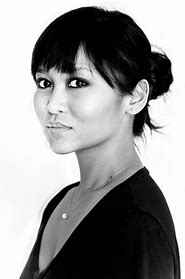person: (29, 6, 172, 164)
